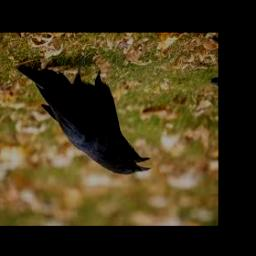Crow: (16, 55, 151, 175)
